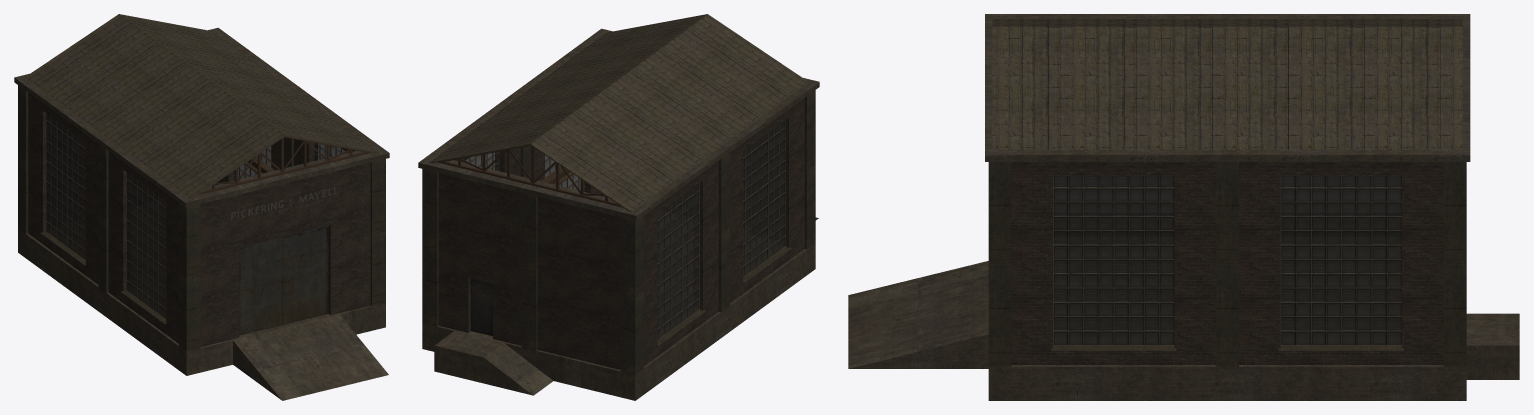
File: warehouse_mx_1.obj
3 renders of one model, left to right at view 1: azimuth 30°, elevation 25°; view 2: azimuth 150°, elevation 25°; view 3: azimuth 270°, elevation 25°, orthographic. The views are drawn at different scales.
Visible parts, largest first — view 1: warehouse_mx_1, garage_door_hr_4_piece_2, garage_door_hr_4_piece_1, building_sign_mx_1; view 2: warehouse_mx_1, door_hr_5; view 3: warehouse_mx_1.
Part boxes in pixels (x1,y1,x2,y2): warehouse_mx_1: (14, 14, 389, 400); garage_door_hr_4_piece_2: (283, 226, 328, 324); garage_door_hr_4_piece_1: (239, 237, 282, 335); building_sign_mx_1: (231, 187, 337, 220); warehouse_mx_1: (418, 14, 819, 400); door_hr_5: (471, 279, 492, 336); warehouse_mx_1: (848, 14, 1519, 400).
Size of the model in its own units: 8.8 by 8.87 by 17.7.
